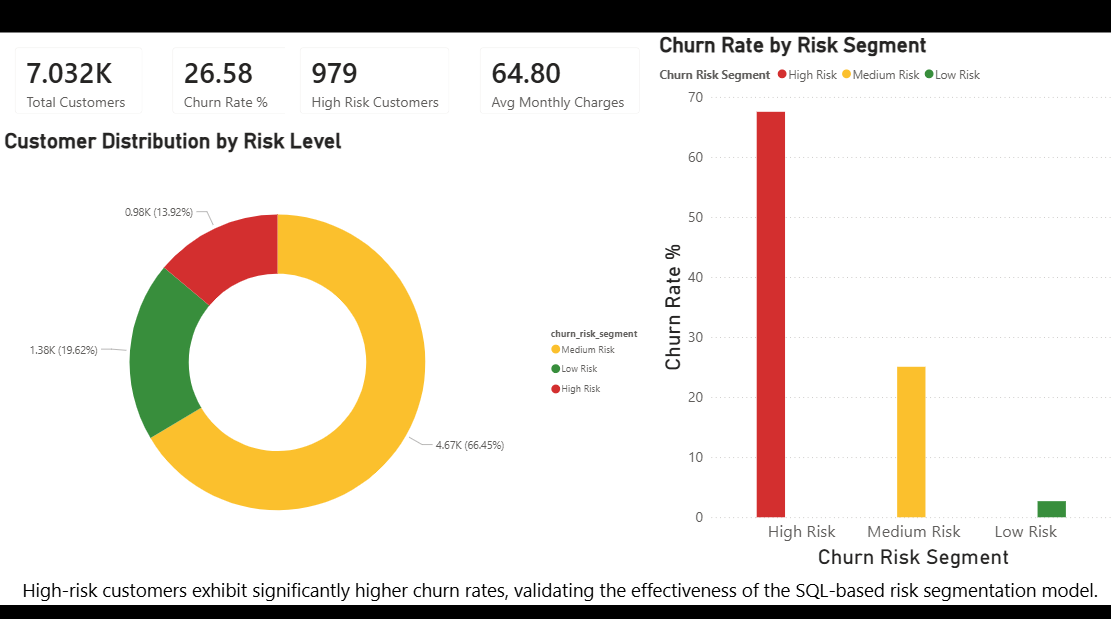

Layout of this report page (visuals, bound fields, positions):
{"tool":"powerbi","page":{"name":"Overview","canvas":[1280,720],"ordinal":0},"visuals":[{"type":"cardVisual","fields":{"Data":["Count(churn_risk_model.customerID)"]},"box":[0,48.6,180,110],"z":0},{"type":"cardVisual","fields":{"Data":["churn_risk_model.Churn Rate %"]},"box":[180,48.6,178.6,110],"z":1000},{"type":"cardVisual","fields":{"Data":["churn_risk_model.High Risk Customers"]},"box":[325.7,48.6,205.7,110],"z":2000},{"type":"cardVisual","fields":{"Data":["churn_risk_model.Avg Monthly Charges"]},"box":[531.4,48.6,217.1,110],"z":3000},{"type":"clusteredColumnChart","title":"Churn Rate by Risk Segment","fields":{"Category":["churn_risk_model.churn_risk_segment"],"Y":["churn_risk_model.Churn Rate %"],"Series":["churn_risk_model.churn_risk_segment"]},"box":[748.6,48.6,531.4,617.1],"z":4000},{"type":"donutChart","title":"Customer Distribution by Risk Level","fields":{"Category":["churn_risk_model.churn_risk_segment"],"Y":["CountNonNull(churn_risk_model.customerID)"]},"box":[0,158.6,748.6,507.1],"z":5000},{"type":"textbox","box":[0,665.7,1280,54.3],"z":6000},{"type":"shape","box":[0,0,1280,48.6],"z":7000},{"type":"shape","box":[0,702.9,1280,17.1],"z":8000}]}

Visuals, with their boxes in screenshot pixels (x1, y1, x2, y2), scaled from the page's 1280x720 canvas onto the 1111x619 screenshot:
cardVisual - Count(churn_risk_model.customerID): {"x1": 0, "y1": 42, "x2": 156, "y2": 136}
cardVisual - churn_risk_model.Churn Rate %: {"x1": 156, "y1": 42, "x2": 311, "y2": 136}
cardVisual - churn_risk_model.High Risk Customers: {"x1": 283, "y1": 42, "x2": 461, "y2": 136}
cardVisual - churn_risk_model.Avg Monthly Charges: {"x1": 461, "y1": 42, "x2": 650, "y2": 136}
"Churn Rate by Risk Segment" clusteredColumnChart: {"x1": 650, "y1": 42, "x2": 1110, "y2": 572}
"Customer Distribution by Risk Level" donutChart: {"x1": 0, "y1": 136, "x2": 650, "y2": 572}
textbox: {"x1": 0, "y1": 572, "x2": 1110, "y2": 618}
shape: {"x1": 0, "y1": 0, "x2": 1110, "y2": 42}
shape: {"x1": 0, "y1": 604, "x2": 1110, "y2": 618}
